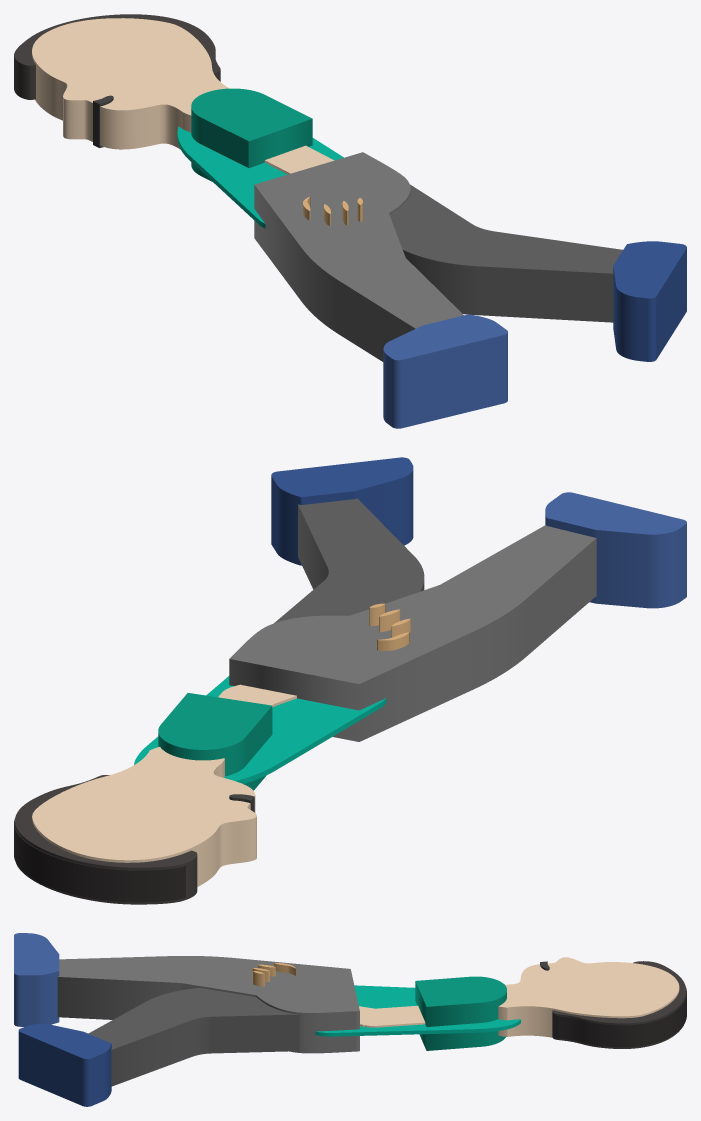
File: emoji_u1f6b6_1f3fb_200d_2642.glb
3 renders of one model, top to bottom at view 1: azimuth 30°, elevation 25°; view 2: azimuth 150°, elevation 25°; view 3: azimuth 270°, elevation 25°, orthographic. The views are drawn at different scales.
Visible parts, largest first — view 1: emoji_u1f6b6_1f3fb_200d_2642; view 2: emoji_u1f6b6_1f3fb_200d_2642; view 3: emoji_u1f6b6_1f3fb_200d_2642.
Boxes of the visible parts, x1=… form: emoji_u1f6b6_1f3fb_200d_2642: x1=14, y1=14, x2=686, y2=428; emoji_u1f6b6_1f3fb_200d_2642: x1=14, y1=457, x2=686, y2=904; emoji_u1f6b6_1f3fb_200d_2642: x1=14, y1=933, x2=686, y2=1106.
Bounding box in the file's own units: 0.0145 × 0.0036 × 0.0332.
